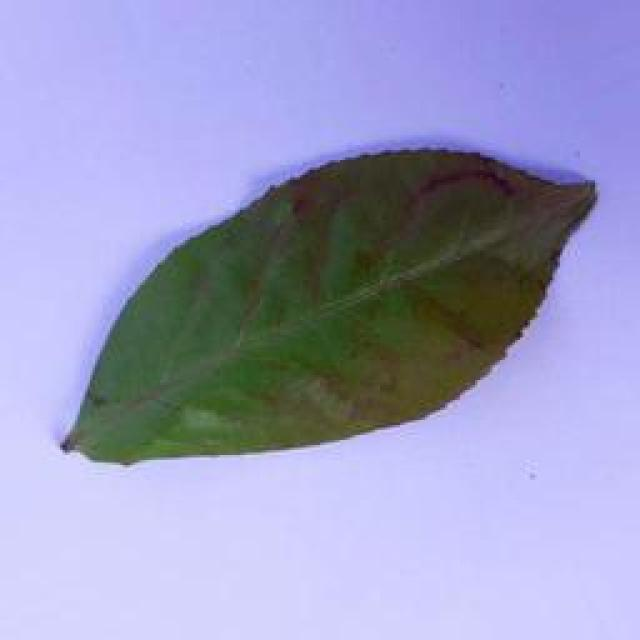Red Leaf Spot: (45, 135, 608, 483)
